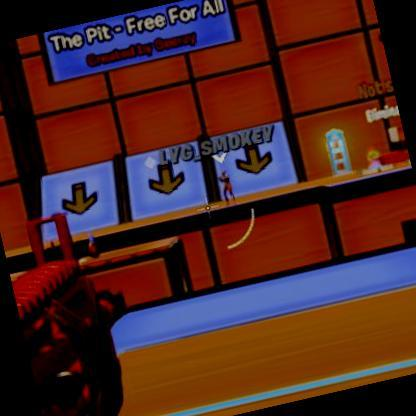person: (213, 166, 236, 202)
